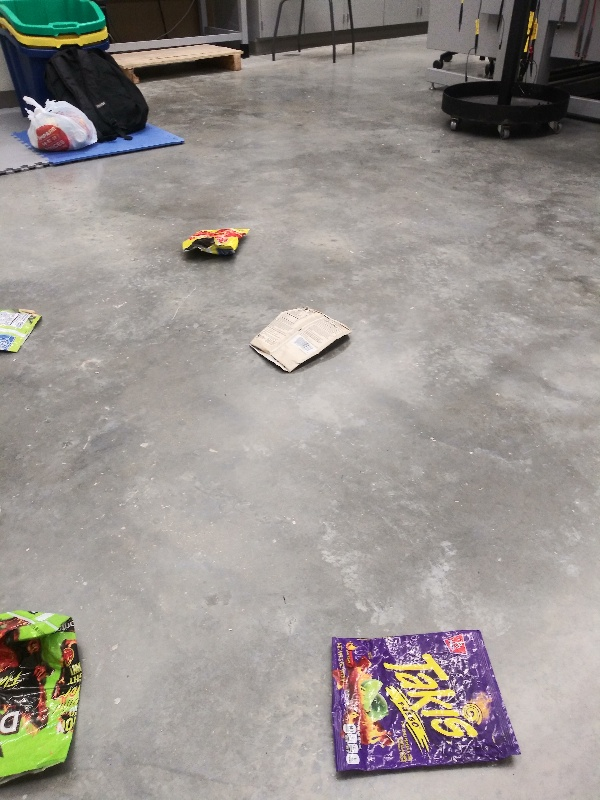bag: (328, 627, 524, 779), (1, 605, 85, 789), (245, 298, 356, 375), (172, 223, 252, 260), (1, 303, 43, 355)
